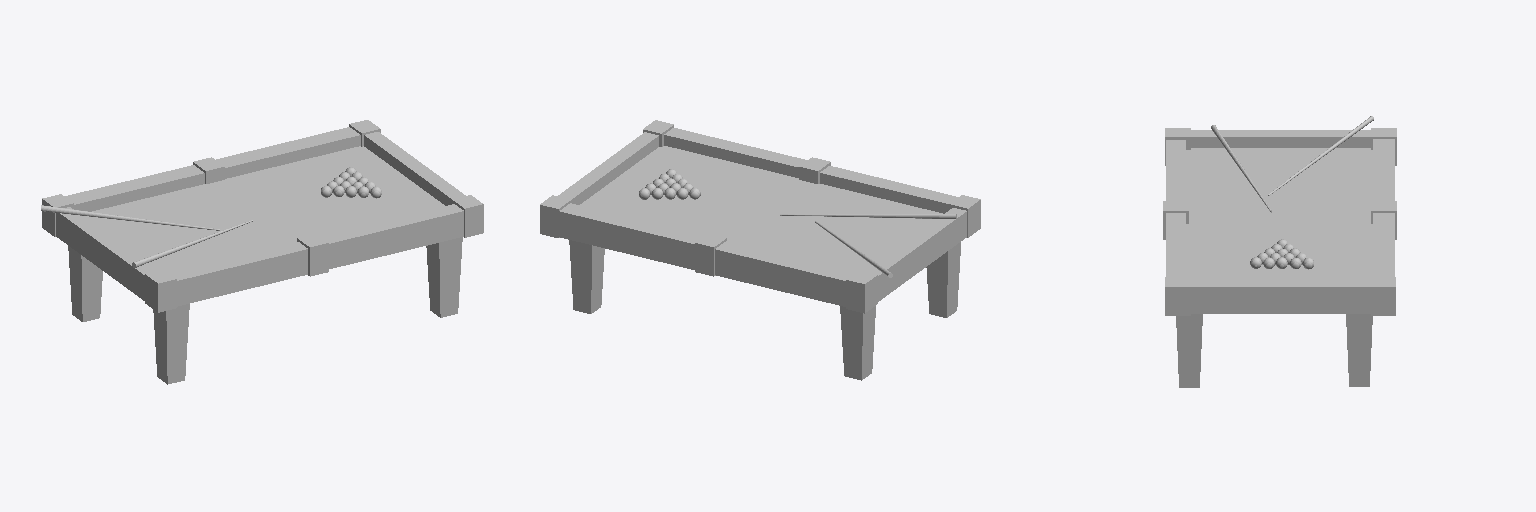
The model's file is PoolTable.obj.
3 renders of one model, left to right at view 1: azimuth 30°, elevation 25°; view 2: azimuth 150°, elevation 25°; view 3: azimuth 270°, elevation 25°, orthographic.
Parts seen in each view (by area): view 1: Cube, Cube.001, Cube.002, Cube.003, Cube.014, Cube.013, Cube.004, Cube.012, Cube.007, Cube.010, Cube.006, Cylinder.001 (+2 smaller); view 2: Cube, Cube.002, Cube.001, Cube.003, Cube.004, Cube.012, Cube.011, Cube.013, Cube.008, Cube.009, Cube.005, Cube.007 (+2 smaller); view 3: Cube, Cube.004, Cube.003, Cube.002, Cube.001, Cube.014, Cube.011, Cube.006, Cube.005.
Boxes of the visible parts, box(x1,y1,x2,y2) form: Cube: box(83, 146, 444, 272); Cube.001: box(169, 204, 463, 306); Cube.002: box(64, 127, 360, 211); Cube.003: box(56, 207, 156, 300); Cube.014: box(426, 237, 462, 317); Cube.013: box(153, 304, 189, 384); Cube.004: box(364, 132, 465, 205); Cube.012: box(68, 246, 102, 321); Cube.007: box(145, 270, 176, 312); Cube.010: box(297, 234, 328, 276); Cube.006: box(452, 195, 483, 237); Cylinder.001: box(41, 205, 219, 230); Cube: box(580, 146, 942, 272); Cube.002: box(559, 203, 854, 306); Cube.001: box(664, 128, 957, 213); Cube.003: box(866, 208, 966, 301); Cube.004: box(558, 132, 658, 204); Cube.012: box(840, 306, 875, 380); Cube.011: box(569, 240, 604, 313); Cube.013: box(926, 242, 960, 317); Cube.008: box(846, 270, 877, 313); Cube.009: box(695, 234, 726, 276); Cube.005: box(540, 195, 570, 237); Cube.007: box(949, 195, 980, 237); Cube: box(1186, 148, 1372, 279); Cube.004: box(1191, 280, 1370, 313); Cube.003: box(1191, 130, 1370, 147); Cube.002: box(1373, 139, 1394, 276); Cube.001: box(1166, 140, 1185, 276); Cube.014: box(1176, 314, 1202, 387); Cube.011: box(1346, 314, 1372, 386); Cube.006: box(1165, 277, 1190, 315); Cube.005: box(1371, 277, 1395, 315).
Bounding box in the file's own units: 3.25 × 1.06 × 1.94.